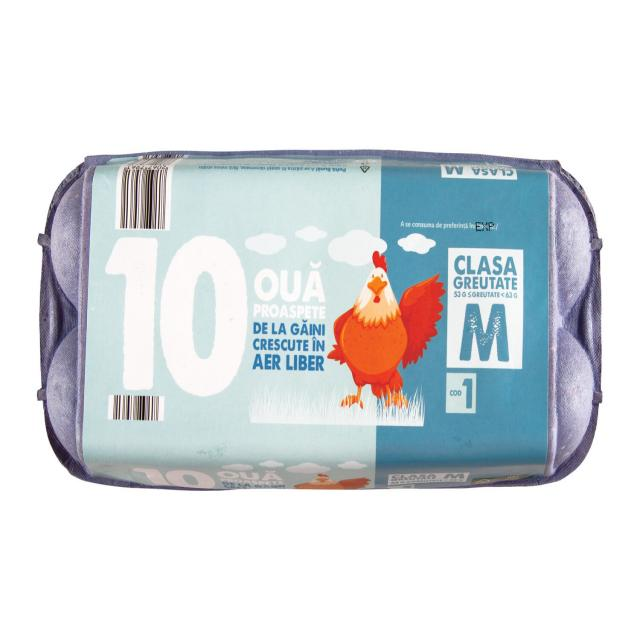eggs: (39, 151, 602, 483)
